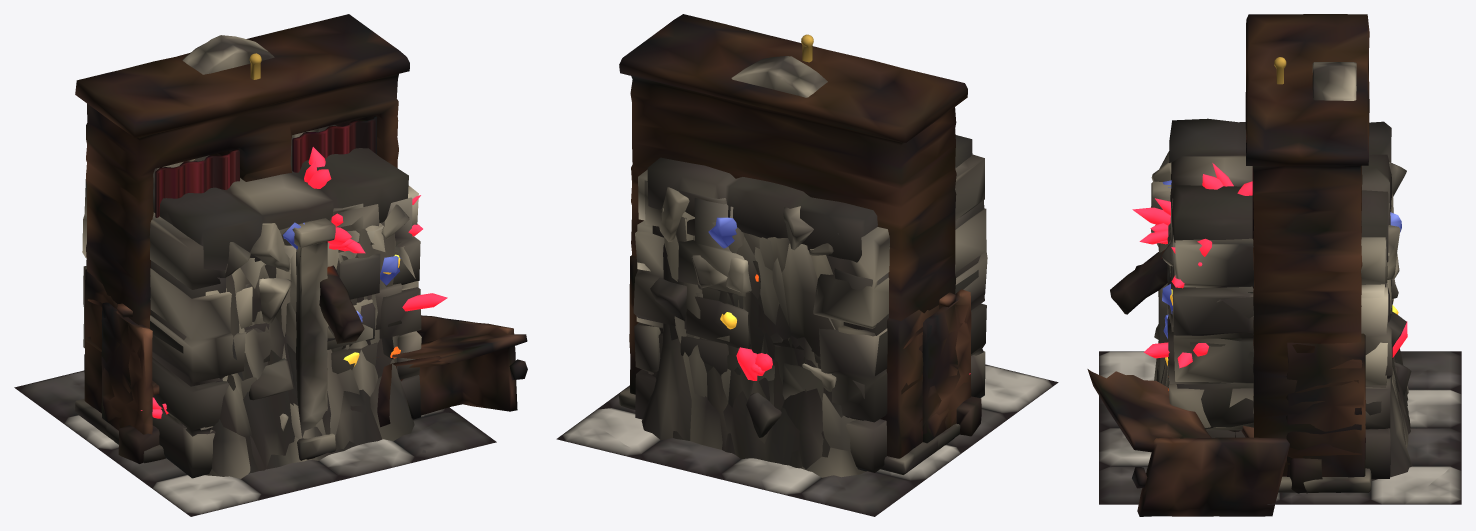
Rendered from bioma_abadia.glb.
3 views of the same model, side by side, from view 1: azimuth 30°, elevation 25°; view 2: azimuth 150°, elevation 25°; view 3: azimuth 270°, elevation 25° (orthographic). The views are drawn at different scales.
Visible parts, largest first — view 1: deco_confesionario_malla, pared_dura_a_malla, pared_borde_malla, deco_banca_rota_malla, pared_dura_b_malla, veta_sangre_malla, pared_blanda_b_malla, piso_b_malla, veta_oro_malla, veta_hierro_malla, deco_banca_quemada_malla, piso_a_malla (+9 smaller); view 2: deco_confesionario_malla, pared_dura_a_malla, pared_borde_malla, pared_blanda_c_malla, pared_dura_b_malla, veta_oro_malla, deco_organo_malla, veta_sangre_malla, veta_hierro_malla, piso_d_malla, piso_e_malla, deco_banca_quemada_malla (+9 smaller); view 3: deco_confesionario_malla, deco_banca_rota_malla, pared_borde_malla, pared_dura_a_malla, pared_dura_b_malla, deco_organo_malla, piso_e_malla, piso_a_malla, veta_sangre_malla, piso_d_malla, piso_b_malla, pared_blanda_b_malla (+8 smaller).
Part boxes in pixels (left/top/right/bottom): deco_confesionario_malla: left=75, top=14, right=409, bottom=408; pared_dura_a_malla: left=82, top=173, right=418, bottom=460; pared_borde_malla: left=86, top=125, right=420, bottom=427; deco_banca_rota_malla: left=101, top=302, right=527, bottom=434; pared_dura_b_malla: left=84, top=197, right=421, bottom=478; veta_sangre_malla: left=141, top=147, right=447, bottom=478; pared_blanda_b_malla: left=219, top=223, right=385, bottom=465; piso_b_malla: left=108, top=409, right=443, bottom=514; veta_oro_malla: left=225, top=230, right=400, bottom=470; veta_hierro_malla: left=205, top=222, right=401, bottom=476; deco_banca_quemada_malla: left=101, top=302, right=159, bottom=428; piso_a_malla: left=20, top=371, right=491, bottom=463; deco_confesionario_malla: left=619, top=14, right=967, bottom=448; pared_dura_a_malla: left=636, top=154, right=987, bottom=471; pared_borde_malla: left=635, top=135, right=984, bottom=419; pared_blanda_c_malla: left=674, top=206, right=841, bottom=465; pared_dura_b_malla: left=633, top=180, right=985, bottom=472; veta_oro_malla: left=641, top=222, right=868, bottom=477; deco_organo_malla: left=629, top=255, right=938, bottom=458; veta_sangre_malla: left=663, top=234, right=970, bottom=469; veta_hierro_malla: left=659, top=187, right=856, bottom=451; piso_d_malla: left=722, top=408, right=1006, bottom=513; piso_e_malla: left=556, top=364, right=1058, bottom=516; deco_banca_quemada_malla: left=922, top=291, right=970, bottom=437; deco_confesionario_malla: left=1245, top=14, right=1369, bottom=476; deco_banca_rota_malla: left=1087, top=369, right=1289, bottom=516; pared_borde_malla: left=1168, top=118, right=1391, bottom=479; pared_dura_a_malla: left=1151, top=179, right=1393, bottom=385; pared_dura_b_malla: left=1167, top=198, right=1392, bottom=430; deco_organo_malla: left=1286, top=333, right=1365, bottom=477; piso_e_malla: left=1099, top=351, right=1461, bottom=504; piso_a_malla: left=1099, top=355, right=1461, bottom=504; veta_sangre_malla: left=1132, top=163, right=1408, bottom=427; piso_d_malla: left=1400, top=351, right=1461, bottom=427; piso_b_malla: left=1099, top=351, right=1302, bottom=504; pared_blanda_b_malla: left=1110, top=162, right=1399, bottom=391.
Size of the model in its own units: 2.33 by 2.34 by 2.06.
